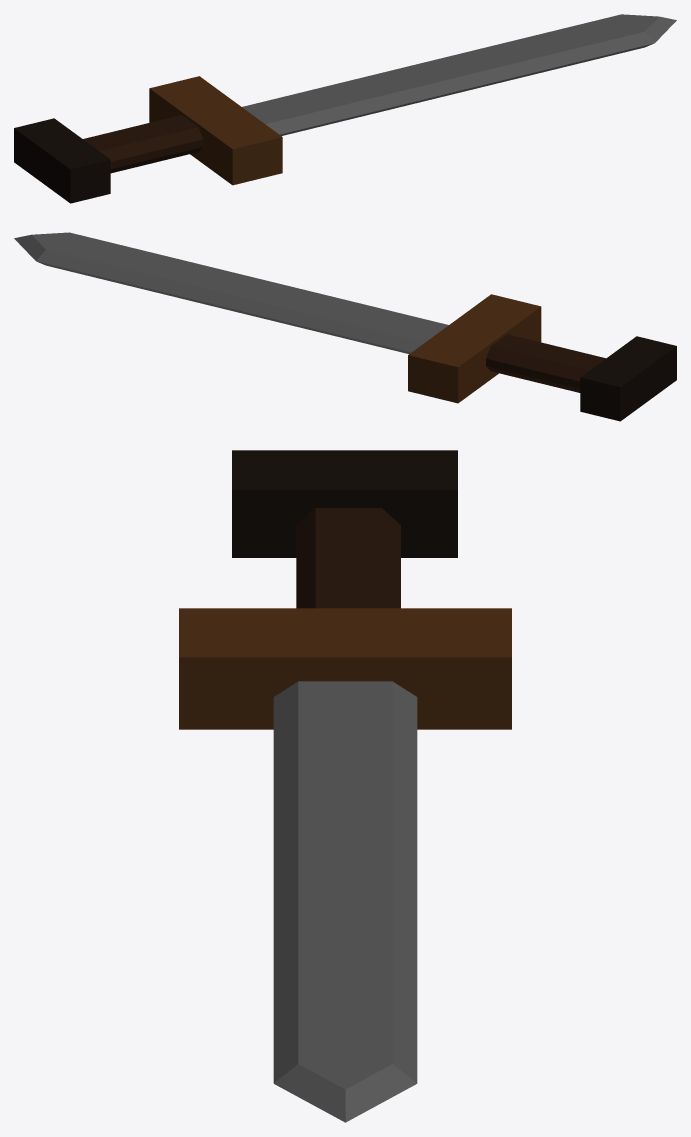
Rendered from miecz.FBX.
3 views of the same model, one above another, from view 1: azimuth 30°, elevation 25°; view 2: azimuth 150°, elevation 25°; view 3: azimuth 270°, elevation 25° (orthographic). The views are drawn at different scales.
Visible parts, largest first — view 1: Box008; view 2: Box008; view 3: Box008.
Part boxes in pixels (bbox=[...]): Box008: bbox=[14, 14, 676, 203]; Box008: bbox=[14, 232, 676, 421]; Box008: bbox=[179, 450, 511, 1122].
Bounding box in the file's own units: 264 × 16.92 × 59.87.
